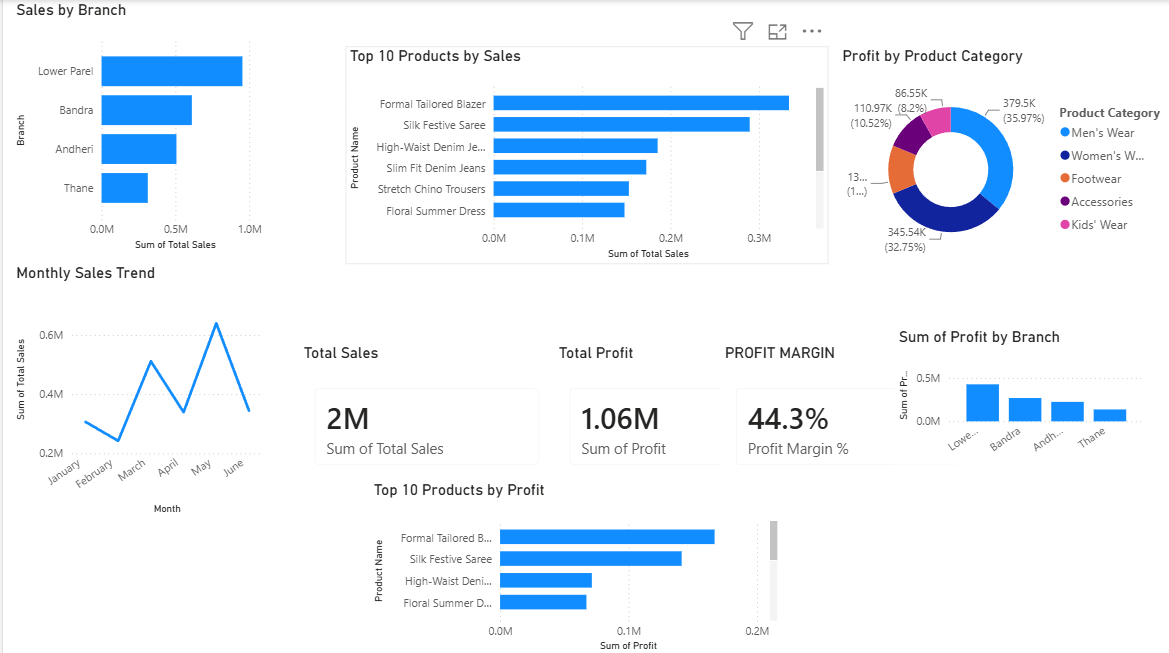

Layout of this report page (visuals, bound fields, positions):
{"tool":"powerbi","page":{"name":"Page 1","canvas":[1280,720],"ordinal":0},"visuals":[{"type":"clusteredBarChart","title":"Sales by Branch","fields":{"Category":["retail_sales.Branch"],"Y":["Sum(retail_sales.Total Sales)"]},"box":[10,0,280,280],"z":0},{"type":"lineChart","title":"Monthly Sales Trend","fields":{"Category":["retail_sales.Date.Variation.Date Hierarchy.Month"],"Y":["Sum(retail_sales.Total Sales)"]},"box":[10,290,280,280],"z":1000},{"type":"barChart","title":"Top 10 Products by Sales","fields":{"Category":["retail_sales.Product Name"],"Y":["Sum(retail_sales.Total Sales)"]},"box":[376,50.8,529.7,238.8],"z":1001},{"type":"donutChart","title":"Profit by Product Category","fields":{"Category":["retail_sales.Product Category"],"Y":["Sum(retail_sales.Profit)"]},"box":[916,51,364,239],"z":1002},{"type":"cardVisual","title":"Total Sales","fields":{"Data":["Sum(retail_sales.Total Sales)"]},"box":[325.2,377.4,280,150],"z":1003},{"type":"cardVisual","title":"Total Profit","fields":{"Data":["Sum(retail_sales.Profit)"]},"box":[605.1,377.4,280,150],"z":1004},{"type":"cardVisual","title":"  PROFIT MARGIN","fields":{"Data":["retail_sales.Profit Margin %"]},"box":[787.7,377.4,280,150],"z":1005},{"type":"clusteredColumnChart","fields":{"Y":["Sum(retail_sales.Profit)"],"Category":["retail_sales.Branch"]},"box":[978.4,359.5,280,150],"z":1006},{"type":"barChart","title":"Top 10 Products by Profit","fields":{"Category":["retail_sales.Product Name"],"Y":["Sum(retail_sales.Profit)"]},"box":[402.1,526.9,452.8,193.5],"z":1007}]}

Visuals, with their boxes in screenshot pixels (x1, y1, x2, y2), scaled from the page's 1280x720 canvas onto the 1169x653 screenshot:
"Sales by Branch" clusteredBarChart: left=9, top=0, right=265, bottom=254
"Monthly Sales Trend" lineChart: left=9, top=263, right=265, bottom=517
"Top 10 Products by Sales" barChart: left=343, top=46, right=827, bottom=263
"Profit by Product Category" donutChart: left=837, top=46, right=1168, bottom=263
"Total Sales" cardVisual: left=297, top=342, right=553, bottom=478
"Total Profit" cardVisual: left=553, top=342, right=808, bottom=478
"  PROFIT MARGIN" cardVisual: left=719, top=342, right=975, bottom=478
clusteredColumnChart - Sum(retail_sales.Profit) x retail_sales.Branch: left=894, top=326, right=1149, bottom=462
"Top 10 Products by Profit" barChart: left=367, top=478, right=781, bottom=652
